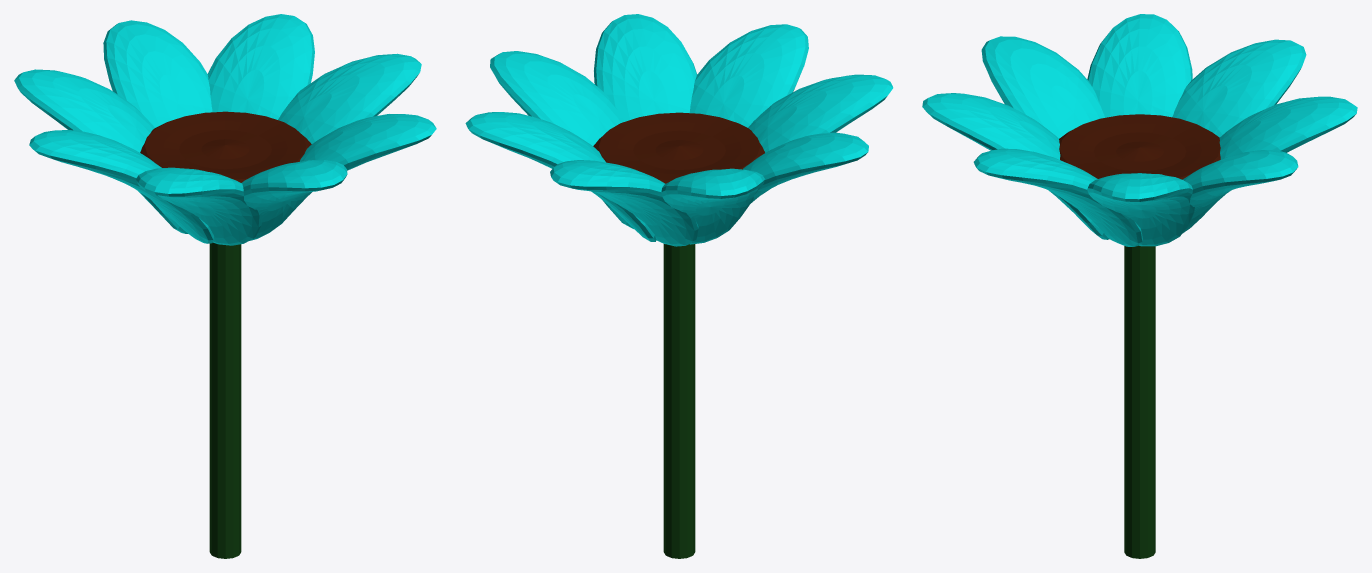
The model's file is TealOption.fbx.
The picture shows the model from 3 angles, left to right: view 1: azimuth 30°, elevation 25°; view 2: azimuth 150°, elevation 25°; view 3: azimuth 270°, elevation 25°; orthographic projection.
Parts seen in each view (by area): view 1: Flower_0_0; view 2: Flower_0_0; view 3: Flower_0_0.
Part boxes in pixels (x1=…): Flower_0_0: x1=14, y1=14, x2=436, y2=558; Flower_0_0: x1=465, y1=14, x2=893, y2=558; Flower_0_0: x1=922, y1=14, x2=1357, y2=558.
Size of the model in its own units: 1.58 by 1.81 by 1.58.
